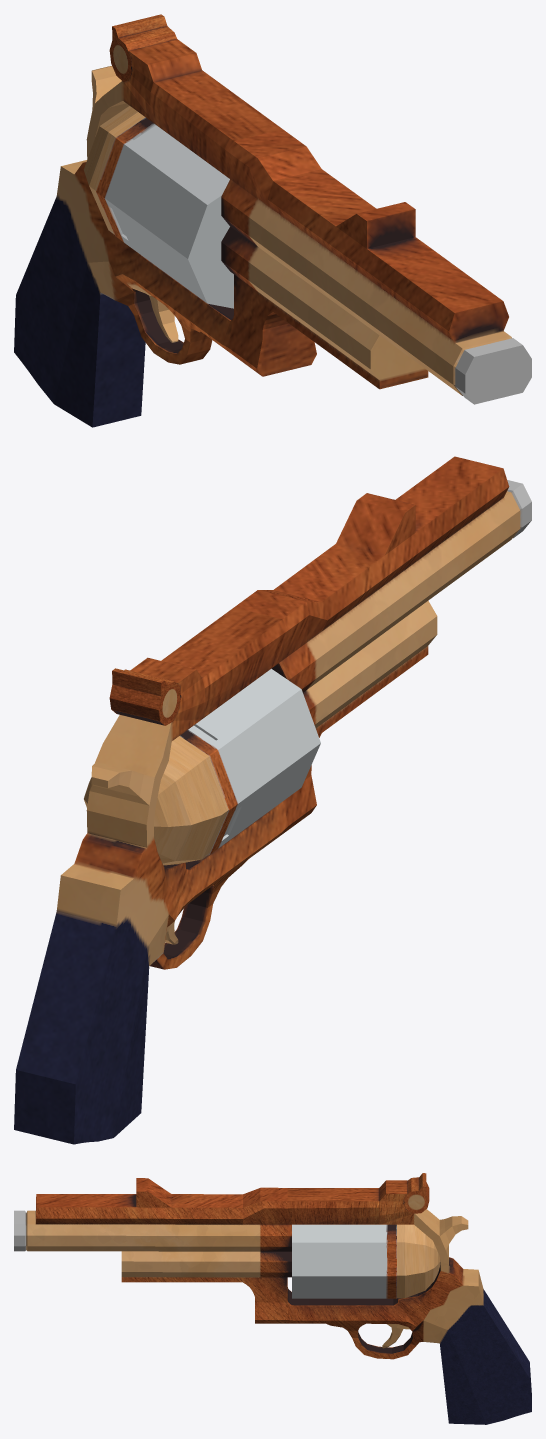
Rendered from Gun_FFFinal.fbx.
The picture shows the model from 3 angles, top to bottom: view 1: azimuth 30°, elevation 25°; view 2: azimuth 150°, elevation 25°; view 3: azimuth 270°, elevation 25°; orthographic projection. The views are drawn at different scales.
Visible parts, largest first — view 1: Cylinder.001, Cylinder.003, Cylinder.002; view 2: Cylinder.001, Cylinder.003; view 3: Cylinder.001, Cylinder.003.
Boxes of the visible parts, <box> form: Cylinder.001: <box>14,14,531,427</box>; Cylinder.003: <box>96,117,233,308</box>; Cylinder.002: <box>128,284,178,342</box>; Cylinder.001: <box>14,456,531,1144</box>; Cylinder.003: <box>180,668,320,855</box>; Cylinder.001: <box>14,1173,531,1424</box>; Cylinder.003: <box>292,1224,396,1298</box>.
Size of the model in its own units: 5.04 by 15.06 by 29.83.
Materials: 2 (2 with a texture image).
